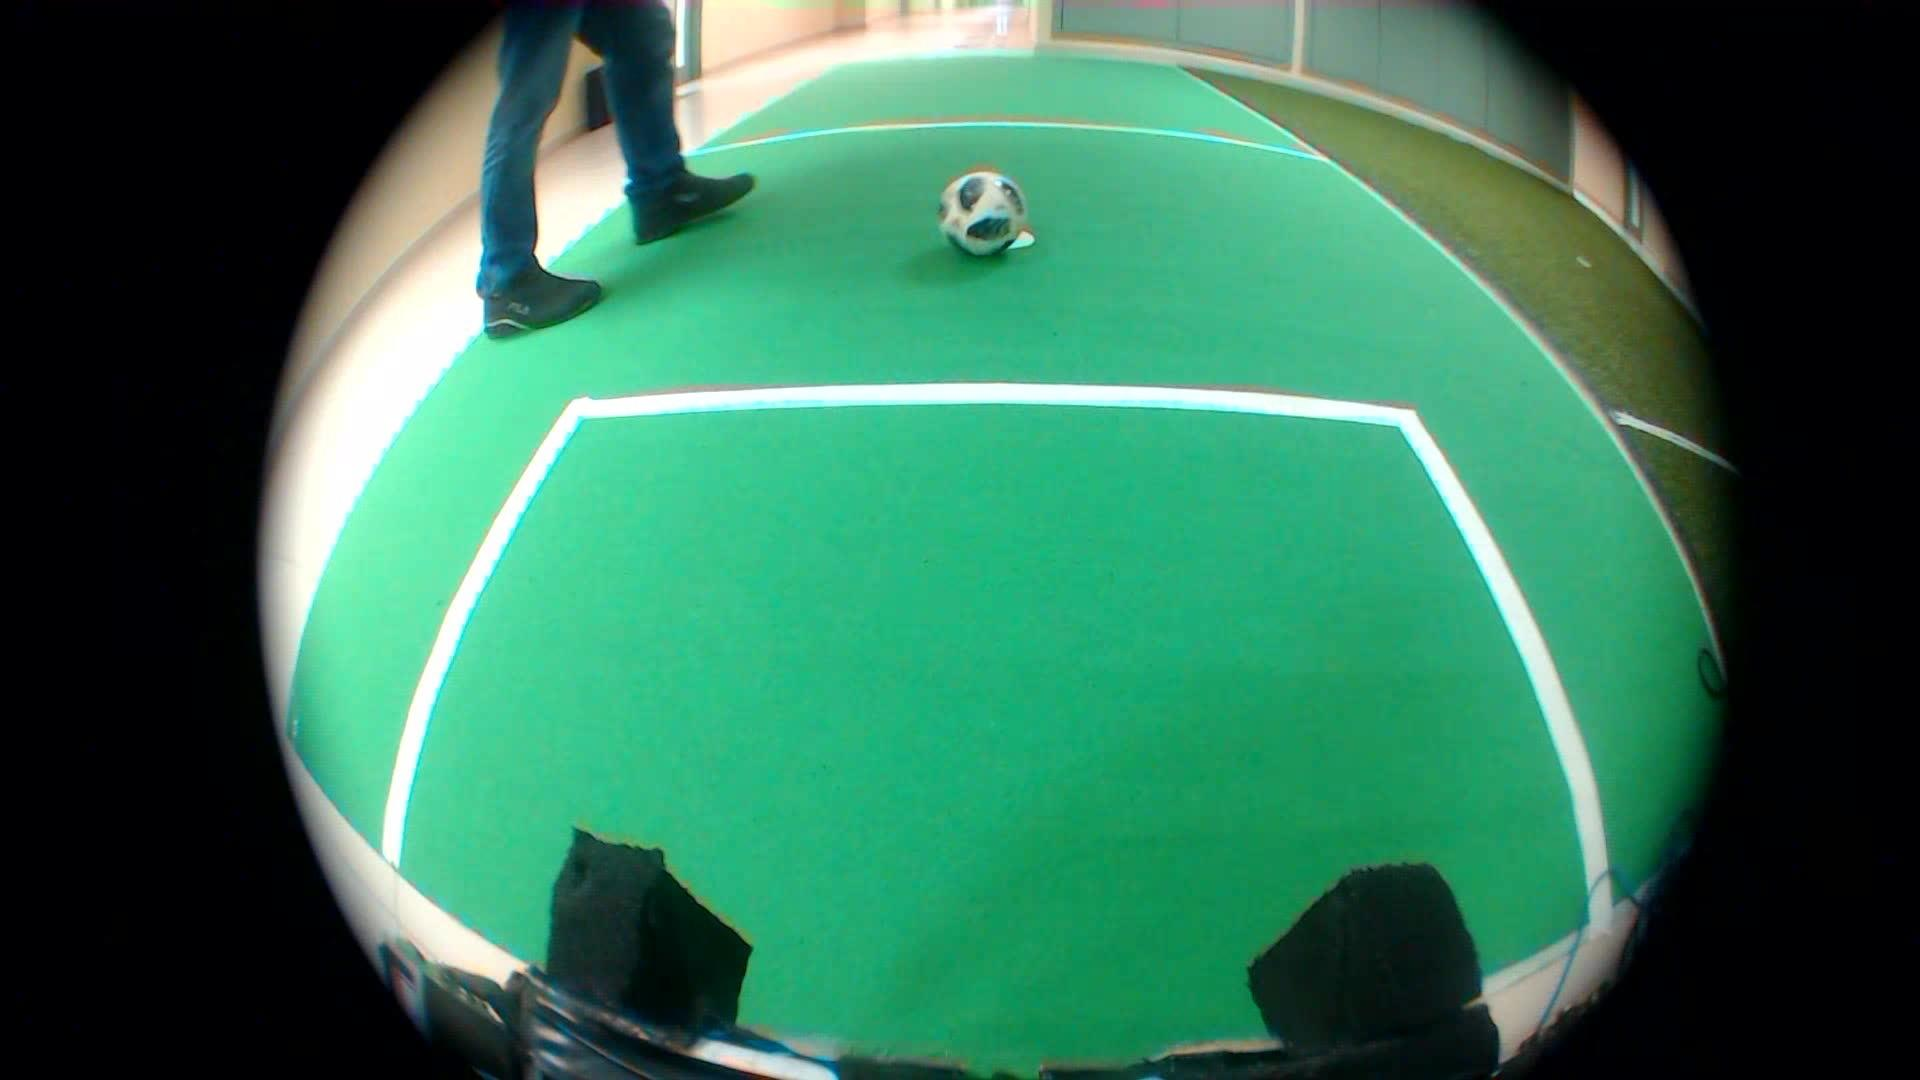ball: (923, 157, 1042, 278)
